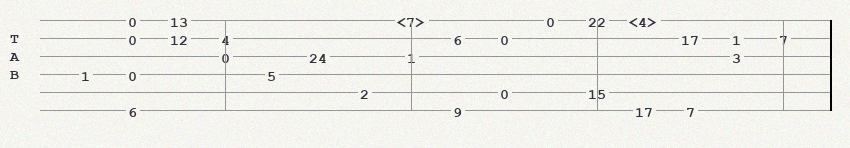0: (128, 14, 141, 27), (128, 32, 141, 45), (128, 68, 141, 81), (221, 50, 234, 63), (500, 86, 513, 99), (500, 32, 513, 45), (546, 14, 559, 27)
1: (81, 68, 94, 81), (407, 50, 420, 63), (732, 32, 745, 45)
12: (170, 32, 192, 45)
13: (170, 14, 192, 27)
15: (588, 86, 610, 99)
17: (635, 104, 657, 117), (681, 32, 703, 45)
2: (360, 86, 373, 99)
22: (588, 14, 610, 27)
24: (309, 50, 331, 63)
3: (732, 50, 745, 63)
4: (221, 32, 234, 45)
5: (267, 68, 280, 81)
6: (128, 104, 141, 117), (453, 32, 466, 45)
7: (686, 104, 699, 117), (779, 32, 792, 45)
9: (453, 104, 466, 117)
harmonic: (397, 14, 430, 27), (629, 14, 662, 27)
